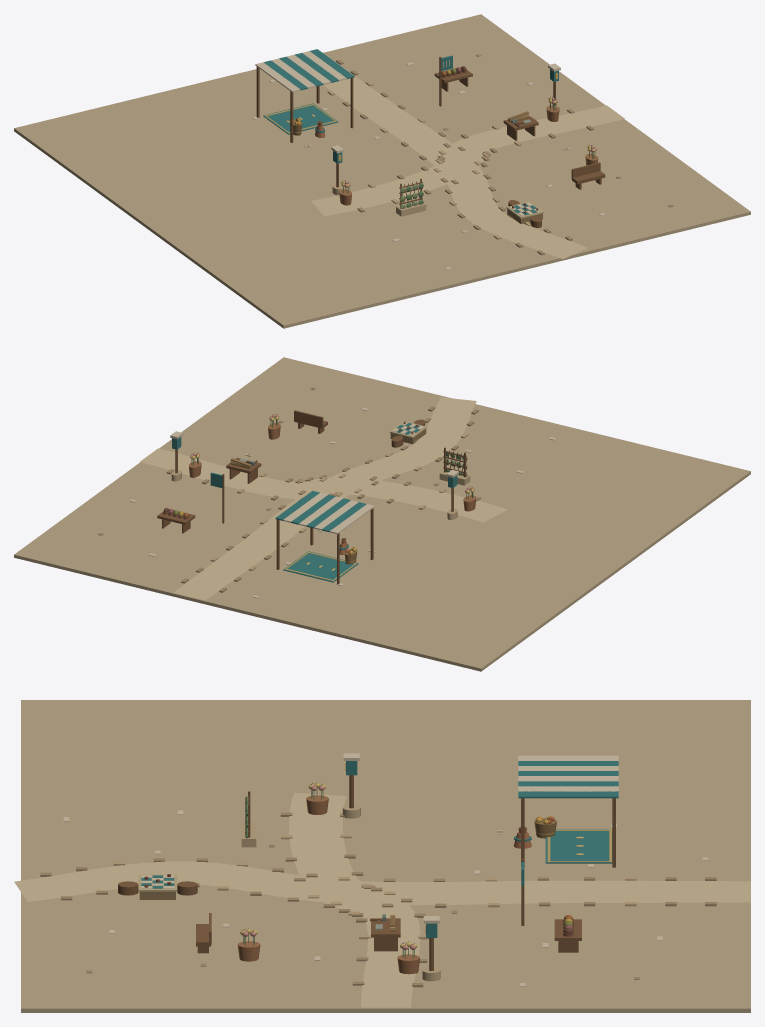
File: city-lane-0.glb
3 renders of one model, top to bottom at view 1: azimuth 30°, elevation 25°; view 2: azimuth 150°, elevation 25°; view 3: azimuth 270°, elevation 25°, orthographic. The views are drawn at different scales.
Visible parts, largest first — view 1: city-lane-0; view 2: city-lane-0; view 3: city-lane-0.
Boxes of the visible parts, x1=… form: city-lane-0: x1=14, y1=14, x2=750, y2=328; city-lane-0: x1=14, y1=357, x2=750, y2=671; city-lane-0: x1=14, y1=700, x2=750, y2=1012.
Size of the model in its own units: 32 by 3.66 by 32.3.
